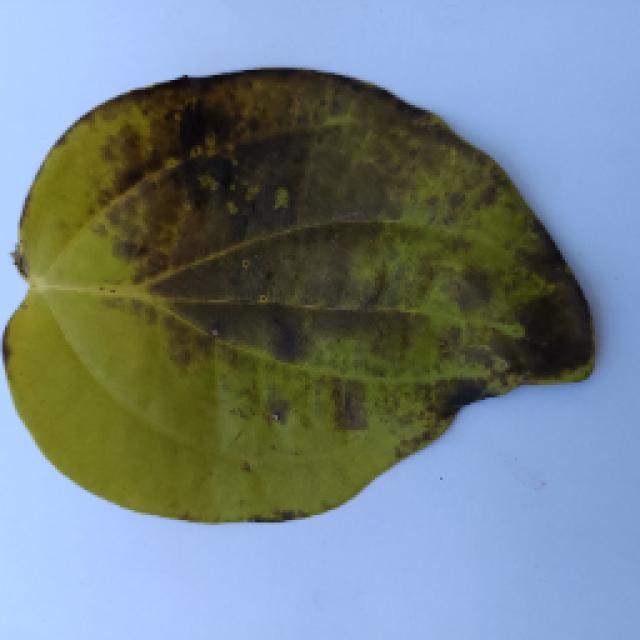slow-decline: (0, 75, 610, 540)
